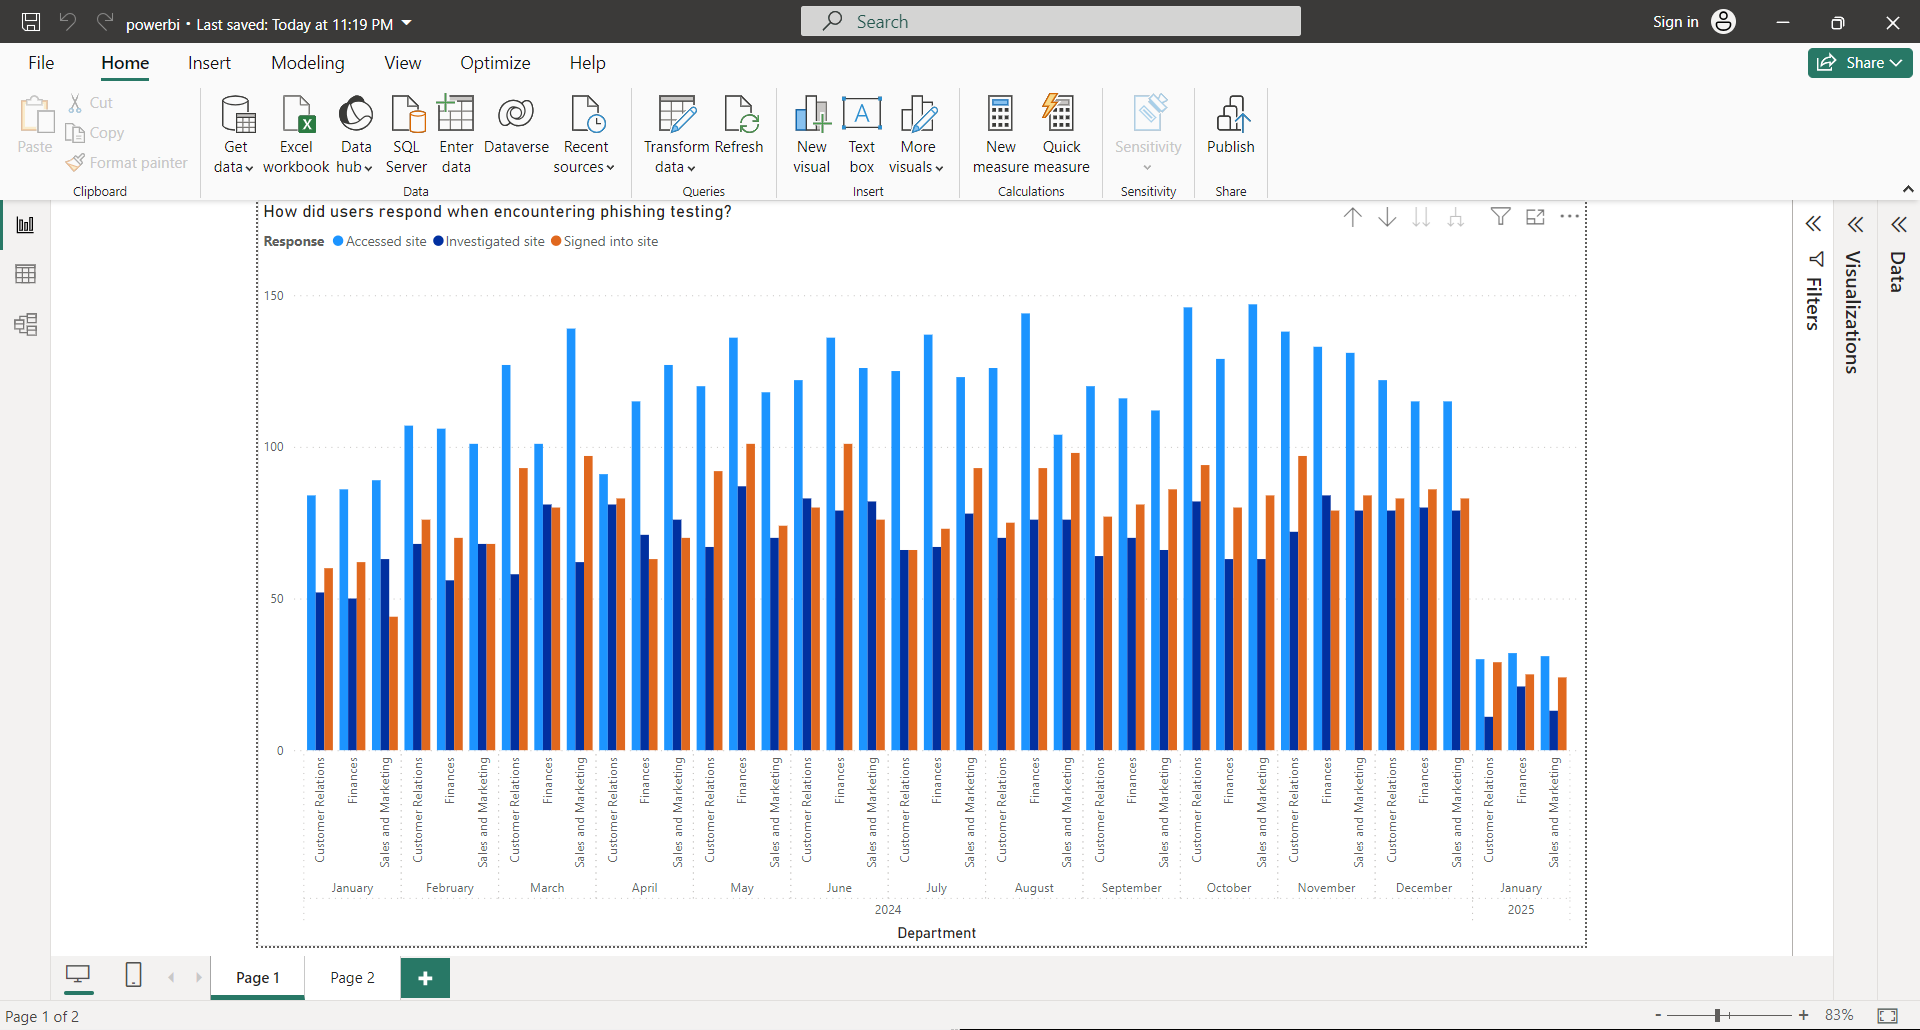

What the dashboard file says about the page in this screenshot:
{"tool":"powerbi","page":{"name":"Page 1","canvas":[1280,720],"ordinal":0},"visuals":[{"type":"clusteredColumnChart","title":"How did users respond when encountering phishing testing?","fields":{"Category":["phishing_TB.created_at.Variation.Date Hierarchy.Year","phishing_TB.created_at.Variation.Date Hierarchy.Month","phishing_TB.Department"],"Y":["CountNonNull(phishing_TB.Custom)"],"Series":["phishing_TB.Custom"]},"box":[0,0,1280.4,720.6],"z":2}]}

Visuals, with their boxes on the page's 1280x720 design canvas (x1, y1, x2, y2). These are canvas units, not pixel positions in the 1920x1030 screenshot, which may show the page scaled, cropped or inside an application window:
"How did users respond when encountering phishing testing?" clusteredColumnChart: 0/0/1280/721
